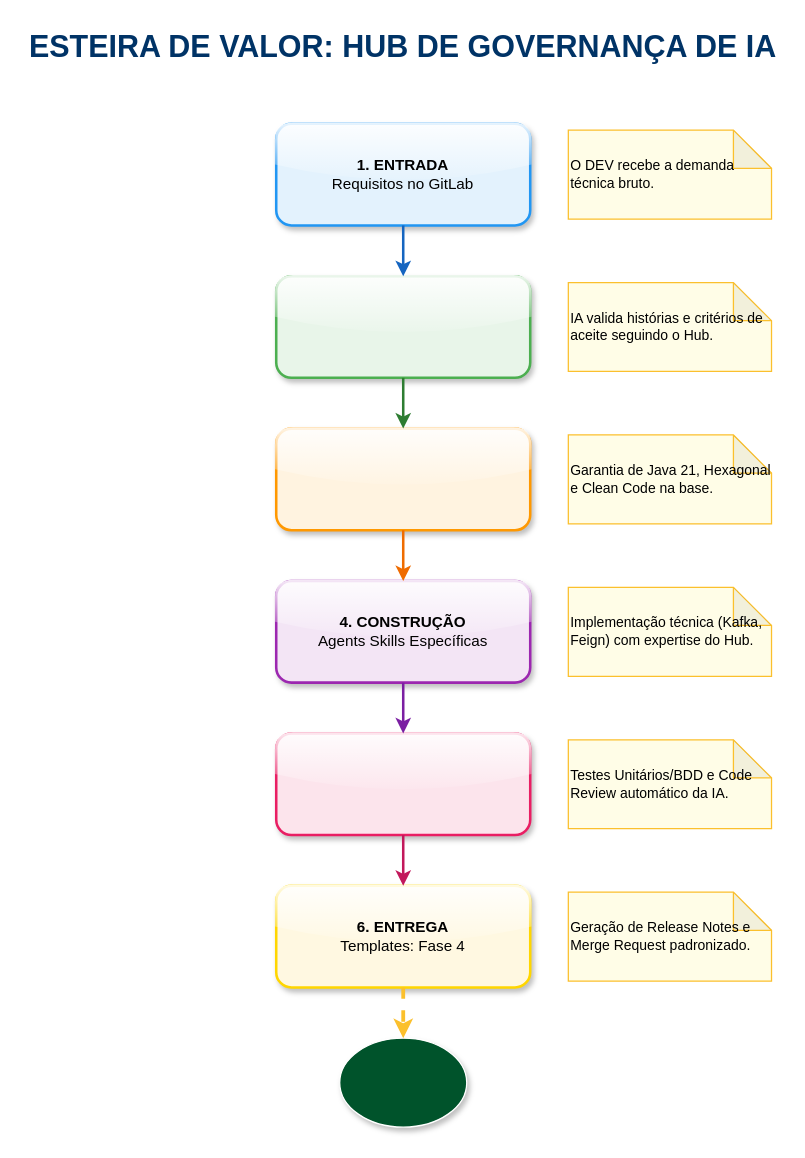
The diagram is 805 pixels wide and 1158 high, and some of its shapes have lost their labels. Here are the shapes that lost their labels. From the top down, the centre of each, then its label:
At point (403, 328): "2. REFINAMENTO Templates: Fase 1".
At point (403, 481): "3. ARQUITETURA Instructions (Constituição)".
At point (403, 785): "5. VALIDAÇÃO Templates: Fase 3".
At point (403, 1084): "MERGE REQUEST".
